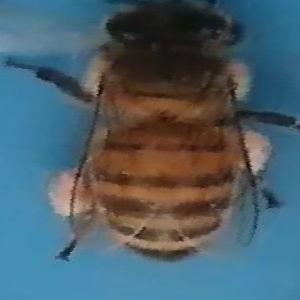bee: (32, 4, 292, 275)
